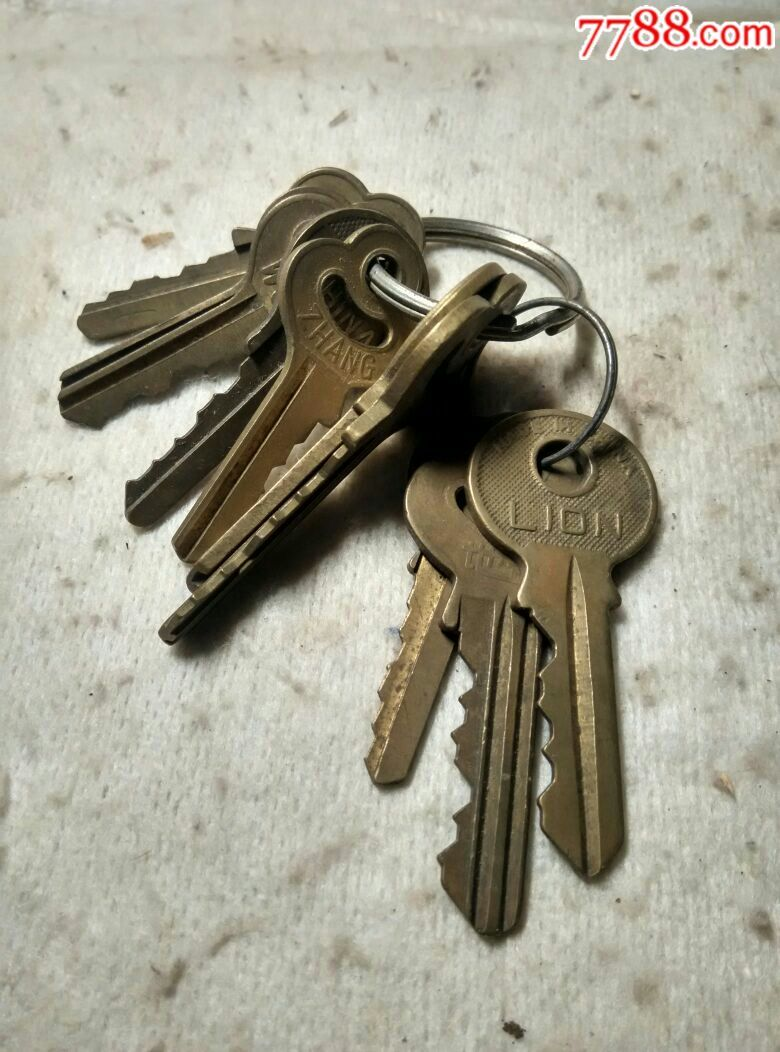key: (468, 410, 671, 887)
